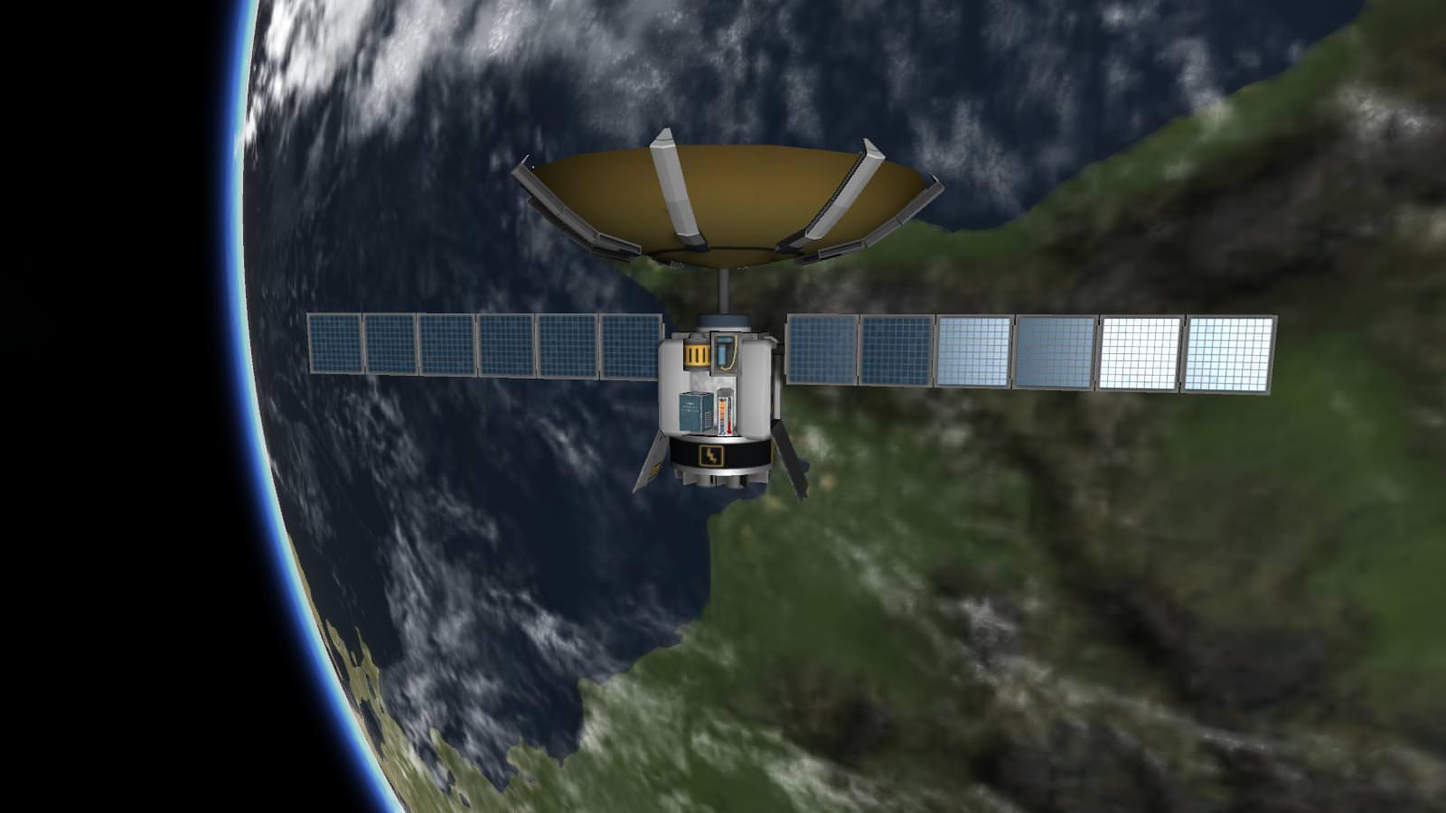antenna: (505, 125, 951, 276)
body: (654, 312, 789, 490)
solar: (781, 310, 1286, 398), (301, 309, 669, 385)
